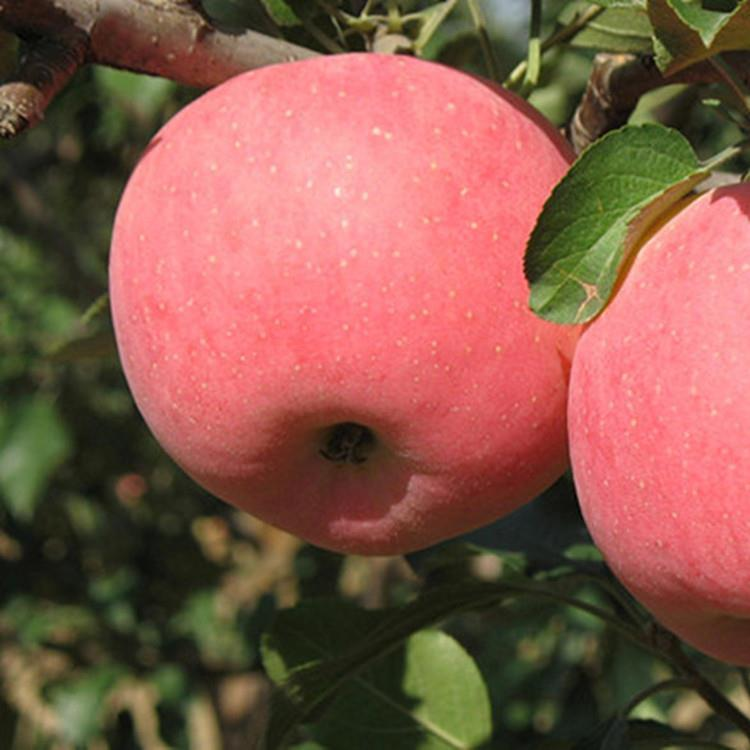apple: (113, 48, 634, 549), (567, 177, 750, 665)
